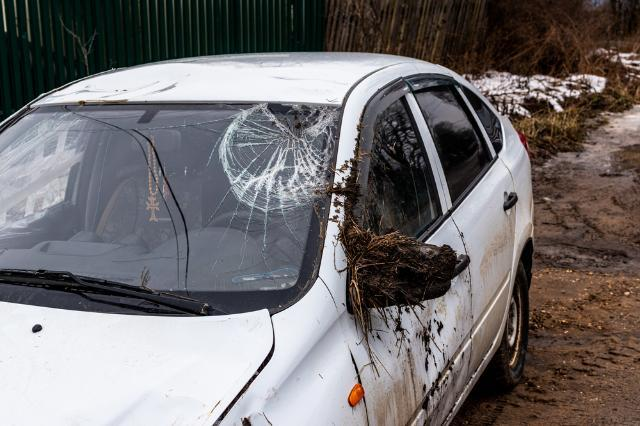dent: (60, 63, 199, 99)
glass shatter: (0, 103, 341, 315)
